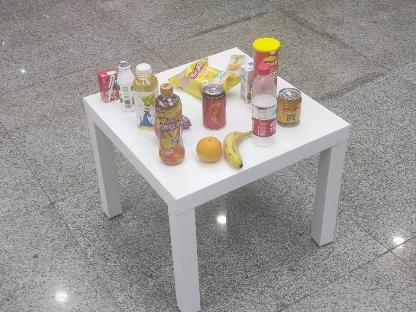Can: (199, 82, 229, 128), (277, 85, 303, 128)
Others: (90, 66, 120, 104)
Plastic Bottle: (246, 63, 280, 149)
